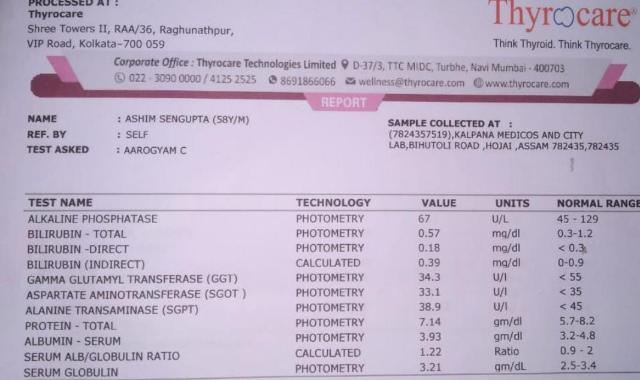Name: (124, 112, 255, 128)
Ref_By: (123, 129, 154, 142)
Reference_Range: (554, 210, 612, 376)
Technology: (291, 210, 369, 378)
Test_Asked: (121, 142, 193, 160)
Test_Name: (19, 209, 250, 380)
Unit: (488, 210, 533, 376)
Value: (415, 211, 451, 377)
